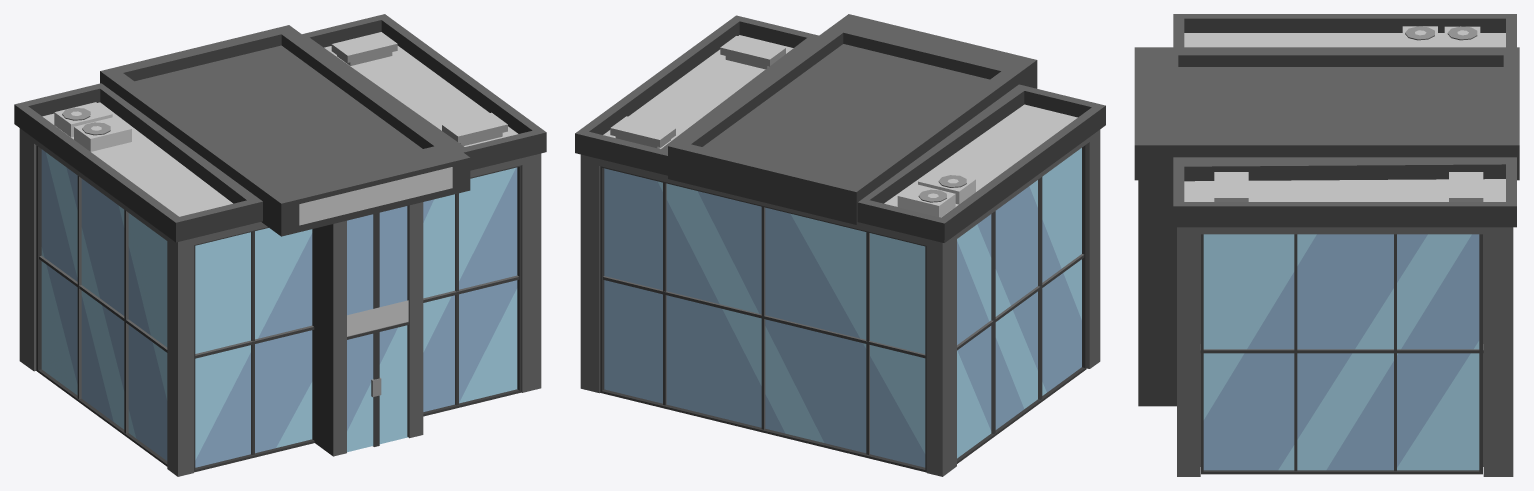
Rendered from supermarket_006.fbx.
3 views of the same model, side by side, from view 1: azimuth 30°, elevation 25°; view 2: azimuth 150°, elevation 25°; view 3: azimuth 270°, elevation 25° (orthographic). The views are drawn at different scales.
Parts seen in each view (by area): view 1: supermarket_006; view 2: supermarket_006; view 3: supermarket_006.
Part boxes in pixels (box(x1,y1,x2,y2)): supermarket_006: box(14, 14, 546, 476); supermarket_006: box(575, 14, 1105, 476); supermarket_006: box(1134, 14, 1519, 476).
Size of the model in its own units: 756 by 525 by 641.
